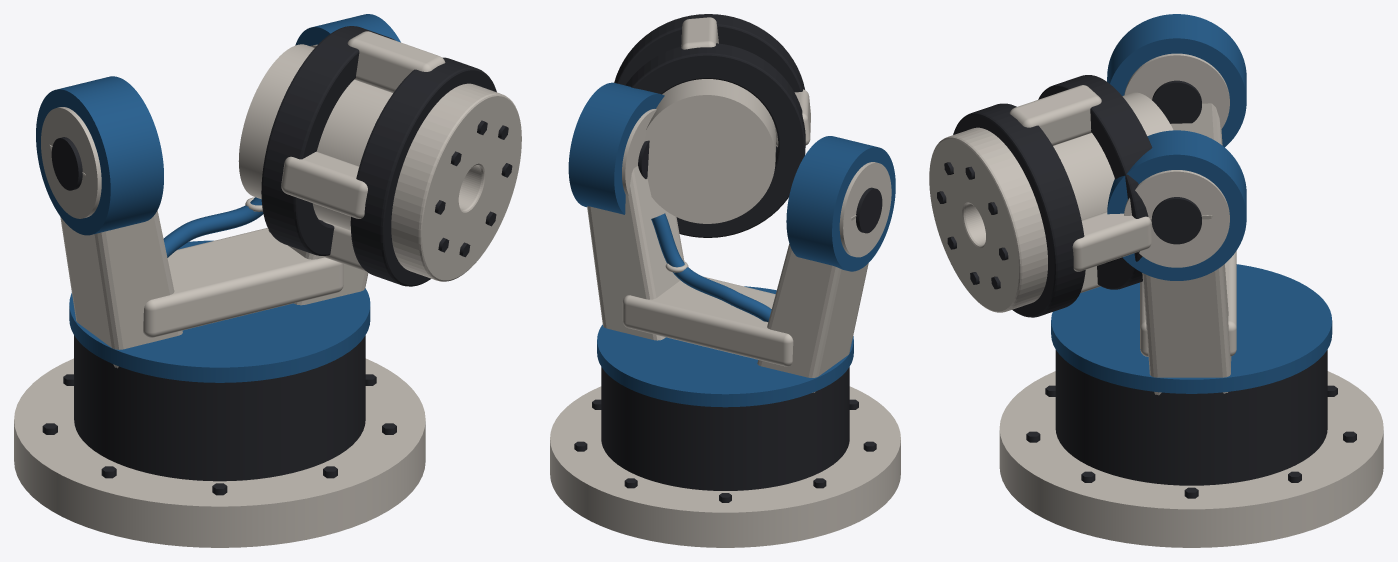
The model's file is anatomy-10.glb.
The picture shows the model from 3 angles, left to right: view 1: azimuth 30°, elevation 25°; view 2: azimuth 150°, elevation 25°; view 3: azimuth 270°, elevation 25°; orthographic projection. The views are drawn at different scales.
Parts seen in each view (by area): view 1: yaw, base, casing, yoke, flange, pitch, rotor, leads; view 2: yaw, base, yoke, pitch, casing, rotor, leads; view 3: yaw, base, pitch, casing, flange, yoke, rotor.
Boxes of the visible parts, x1,y1,x2,y2 form: yaw: (69,240,370,481); base: (14,358,425,547); casing: (261,26,496,286); yoke: (50,145,368,368); flange: (391,83,521,281); pitch: (36,14,400,235); rotor: (238,44,392,230); leads: (163,197,263,257); yaw: (597,286,853,490); base: (550,386,900,547); yoke: (587,166,868,392); pitch: (568,82,895,271); casing: (614,14,810,237); rotor: (645,79,776,223); leads: (651,213,771,321); yaw: (1051,264,1332,485); base: (999,371,1383,547); pitch: (1107,14,1246,280); casing: (953,75,1152,317); flange: (929,127,1047,312); yoke: (1140,103,1236,395); rotor: (1053,92,1173,219).
Bounding box in the file's own units: 1.3 × 1.43 × 1.42.
